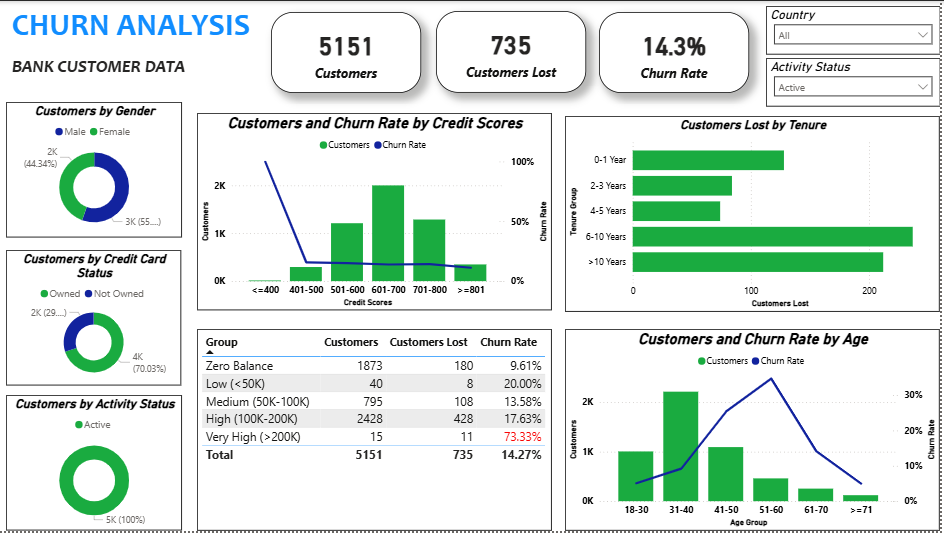

The page's visual inventory and layout, read from the dashboard file:
{"tool":"powerbi","page":{"name":"Page 2","canvas":[1280,720],"ordinal":1},"visuals":[{"type":"lineClusteredColumnComboChart","title":"Customers and Churn Rate by Credit Scores","fields":{"Y2":["Bank Customer Churn Prediction.Churn Rate"],"Y":["Bank Customer Churn Prediction.Total Customers"],"Category":["Credit Score Group.Credit Scores"]},"box":[269.8,152.8,481.7,268.4],"z":0},{"type":"lineClusteredColumnComboChart","title":"Customers and Churn Rate by Age","fields":{"Y2":["Bank Customer Churn Prediction.Churn Rate"],"Y":["Bank Customer Churn Prediction.Total Customers"],"Category":["Age Groups (2).Age Group"]},"box":[770.8,445.9,509.2,273.9],"z":1000},{"type":"donutChart","title":"Customers by Gender","fields":{"Y":["Bank Customer Churn Prediction.Total Customers"],"Category":["Bank Customer Churn Prediction.gender"]},"box":[11,137.6,239.5,184.4],"z":2000},{"type":"textbox","box":[13.8,0,356.5,125.2],"z":3000},{"type":"card","fields":{"Values":["Bank Customer Churn Prediction.Customers"]},"box":[370.2,15.1,203.7,110.1],"z":4000},{"type":"donutChart","title":"Customers by Activity Status","fields":{"Y":["Bank Customer Churn Prediction.Total Customers"],"Category":["Bank Customer Churn Prediction.active_member"]},"box":[11,535.4,239.5,184.4],"z":5000},{"type":"donutChart","title":"Customers by Credit Card Status","fields":{"Y":["Bank Customer Churn Prediction.Total Customers"],"Category":["Bank Customer Churn Prediction.credit_card"]},"box":[11,338.6,238.1,184.4],"z":6000},{"type":"tableEx","fields":{"Values":["Acct Balance Group.Group","Bank Customer Churn Prediction.Customers","Bank Customer Churn Prediction.Customers Lost","Bank Customer Churn Prediction.Churn Rate"]},"box":[269.8,445.9,481.7,273.9],"z":7000},{"type":"card","fields":{"Values":["Bank Customer Churn Prediction.Customers Lost"]},"box":[594.6,13.8,203.7,111.5],"z":8000},{"type":"card","fields":{"Values":["Bank Customer Churn Prediction.Churn Rate"]},"box":[816.2,15.1,203.7,110.1],"z":9000},{"type":"slicer","title":"Country","fields":{"Values":["Bank Customer Churn Prediction.country"]},"box":[1043.3,6.9,236.7,66.1],"z":10000},{"type":"barChart","title":"Customers Lost by Tenure ","fields":{"Category":["Tenure Group.Tenure Group"],"Y":["Bank Customer Churn Prediction.Customers Lost"]},"box":[770.8,156.9,509.2,265.6],"z":11000},{"type":"slicer","title":"Activity Status","fields":{"Values":["Bank Customer Churn Prediction.active_member"]},"box":[1043.3,77.1,236.7,66.1],"z":11001}]}

Visuals, with their boxes in screenshot pixels (x1, y1, x2, y2), scaled from the page's 1280x720 canvas onto the 944x534 screenshot:
"Customers and Churn Rate by Credit Scores" lineClusteredColumnComboChart: left=199, top=113, right=554, bottom=312
"Customers and Churn Rate by Age" lineClusteredColumnComboChart: left=568, top=331, right=943, bottom=533
"Customers by Gender" donutChart: left=8, top=102, right=185, bottom=239
textbox: left=10, top=0, right=273, bottom=93
card - Bank Customer Churn Prediction.Customers: left=273, top=11, right=423, bottom=93
"Customers by Activity Status" donutChart: left=8, top=397, right=185, bottom=533
"Customers by Credit Card Status" donutChart: left=8, top=251, right=184, bottom=388
tableEx - Acct Balance Group.Group x Bank Customer Churn Prediction.Customers: left=199, top=331, right=554, bottom=533
card - Bank Customer Churn Prediction.Customers Lost: left=439, top=10, right=589, bottom=93
card - Bank Customer Churn Prediction.Churn Rate: left=602, top=11, right=752, bottom=93
"Country" slicer: left=769, top=5, right=943, bottom=54
"Customers Lost by Tenure " barChart: left=568, top=116, right=943, bottom=313
"Activity Status" slicer: left=769, top=57, right=943, bottom=106
